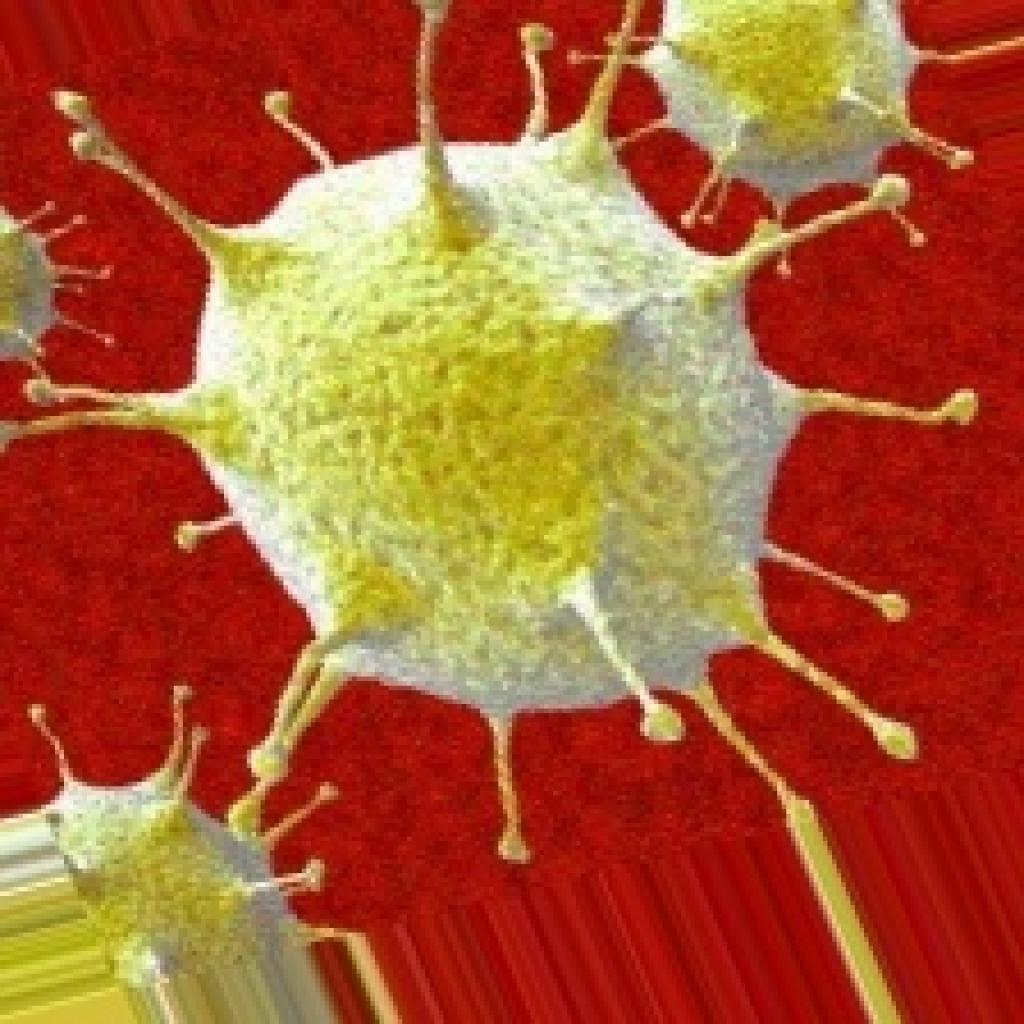Sphericalbacteria: (35, 44, 947, 934)
